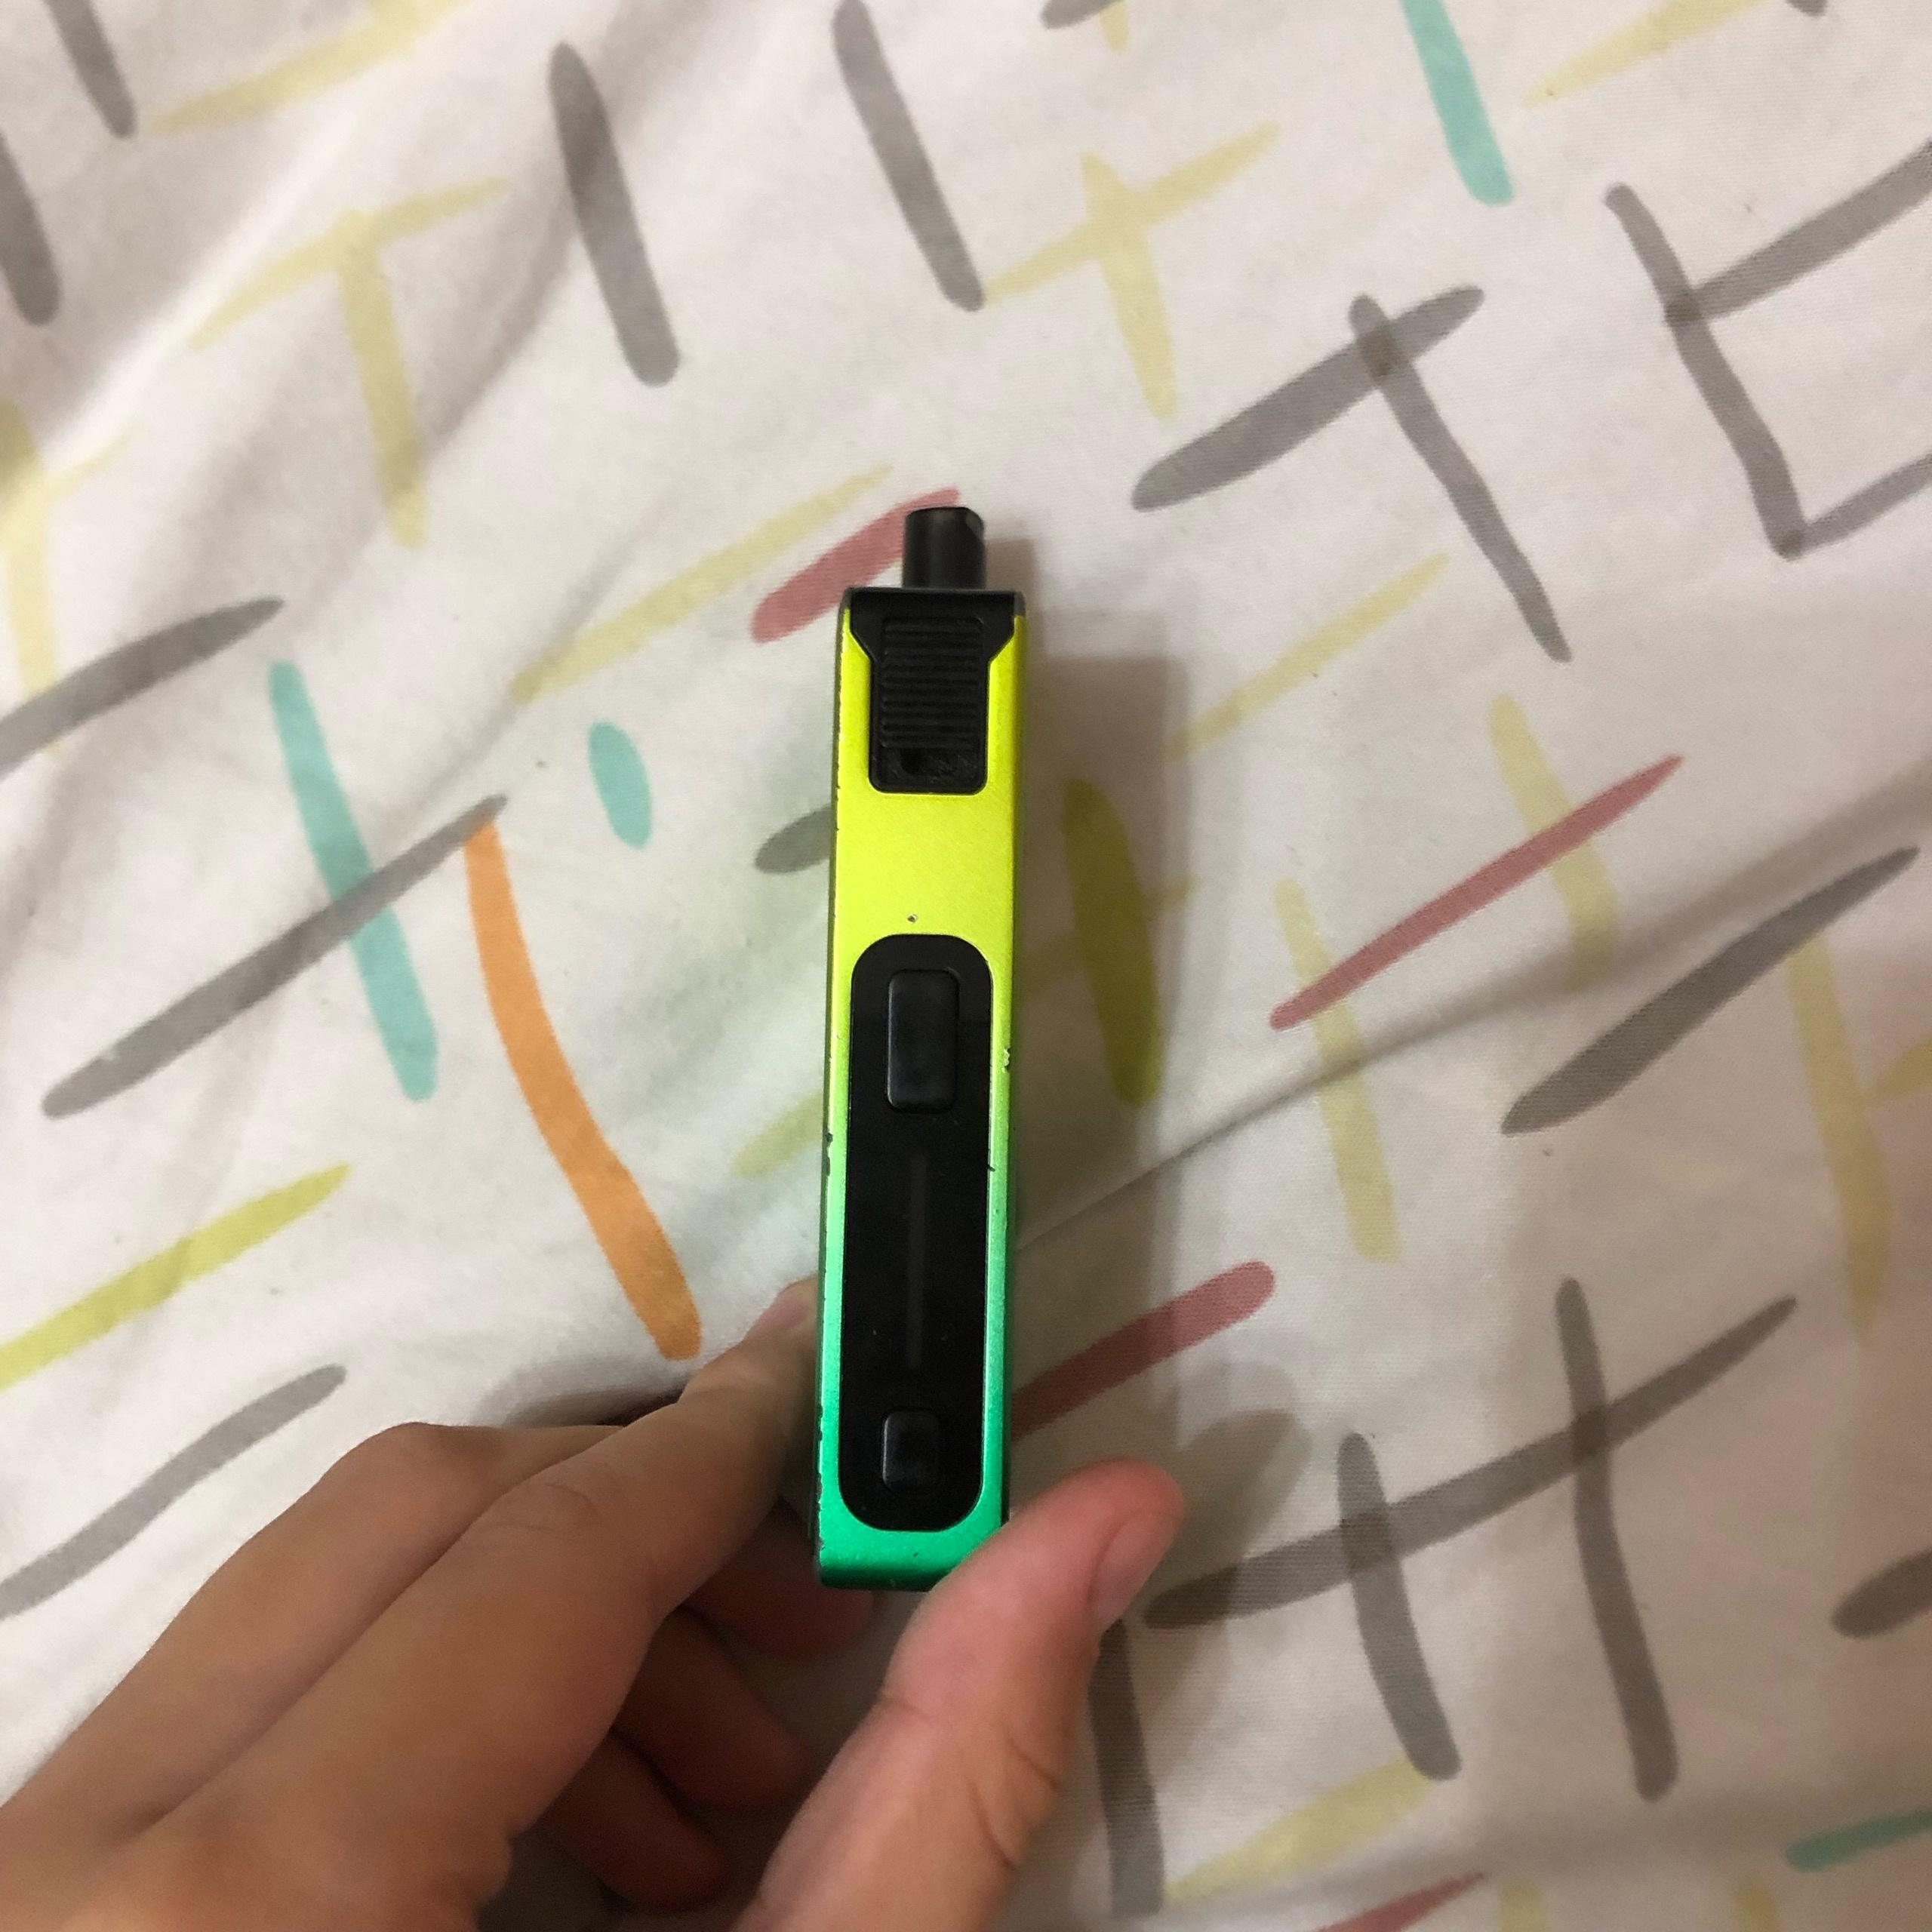Vape: (812, 504, 1024, 1589)
